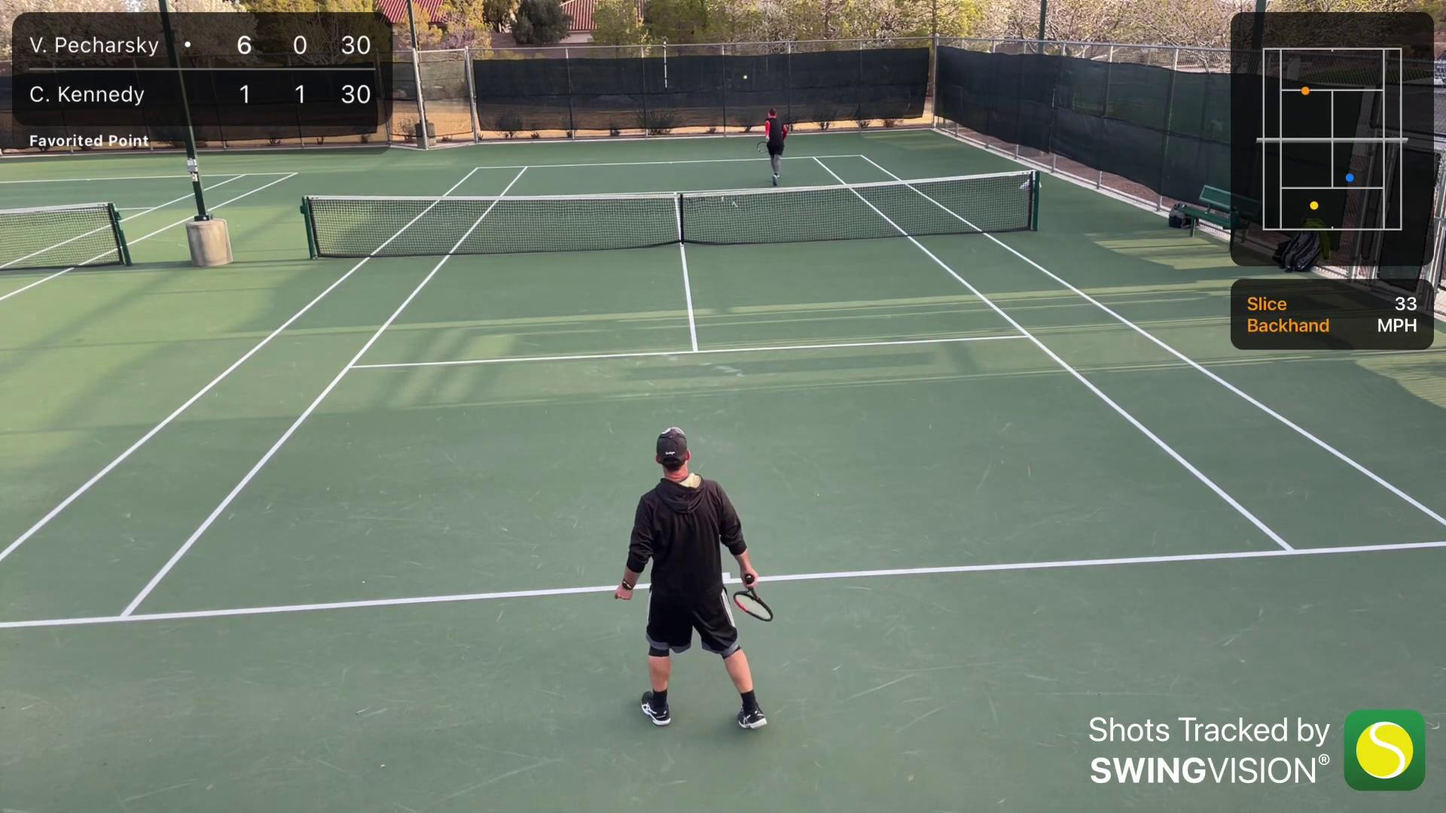ball: (744, 75, 749, 80)
